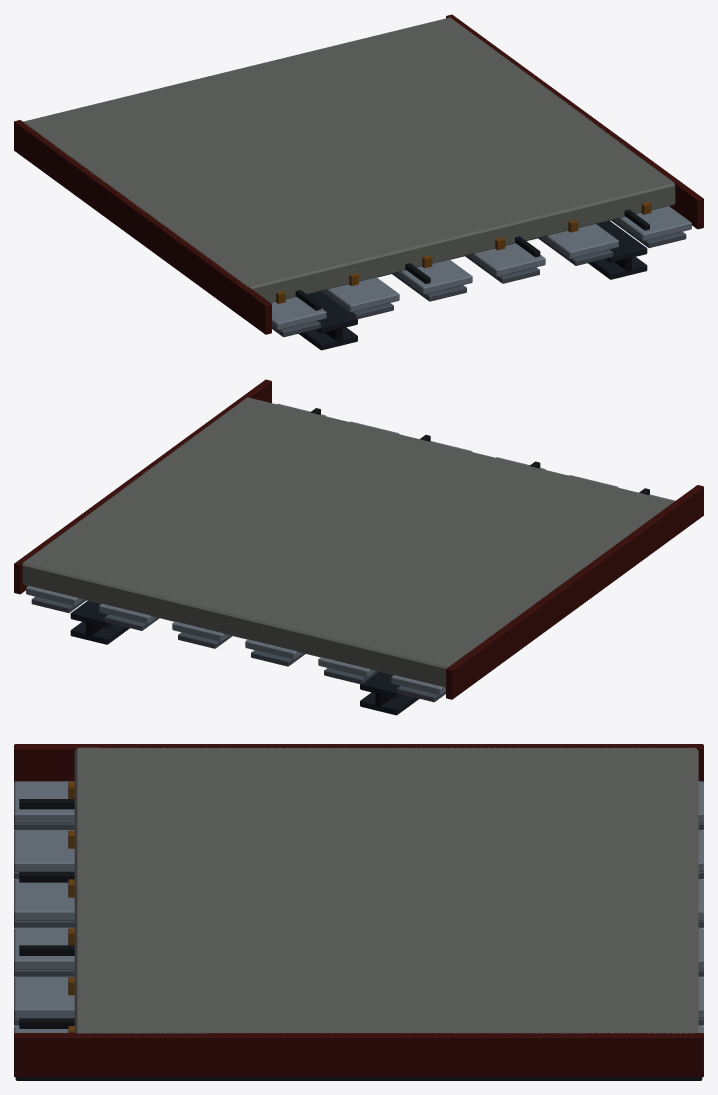
The model's file is mod_metal_deck_slab_2x2m.glb.
The picture shows the model from 3 angles, top to bottom: view 1: azimuth 30°, elevation 25°; view 2: azimuth 150°, elevation 25°; view 3: azimuth 270°, elevation 25°; orthographic projection. The views are drawn at different scales.
Visible parts, largest first — view 1: Mod_Metal_Deck_Slab_2x2m; view 2: Mod_Metal_Deck_Slab_2x2m; view 3: Mod_Metal_Deck_Slab_2x2m.
Part boxes in pixels (bbox=[...]): Mod_Metal_Deck_Slab_2x2m: bbox=[14, 14, 703, 350]; Mod_Metal_Deck_Slab_2x2m: bbox=[14, 379, 703, 715]; Mod_Metal_Deck_Slab_2x2m: bbox=[14, 744, 703, 1080].
Bounding box in the file's own units: 2 × 0.26 × 1.99.
